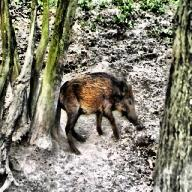boar: (56, 71, 139, 154)
